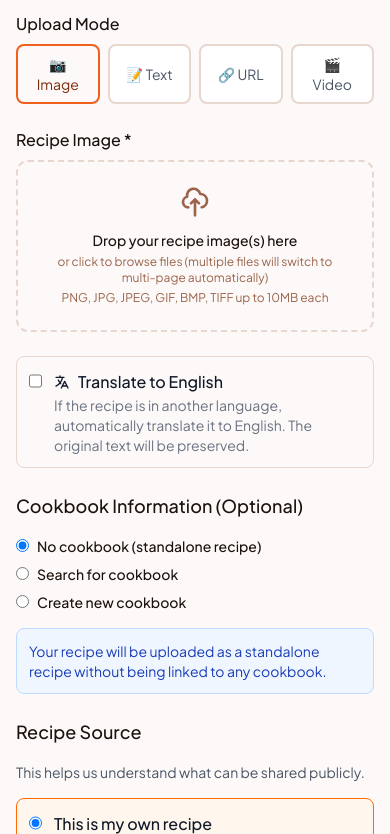
Test: UploadForm › Mode Selection › switches to video mode when video button clicked
Click the button "🎬 Video".
click(332, 74)  # box [290,44,374,104]
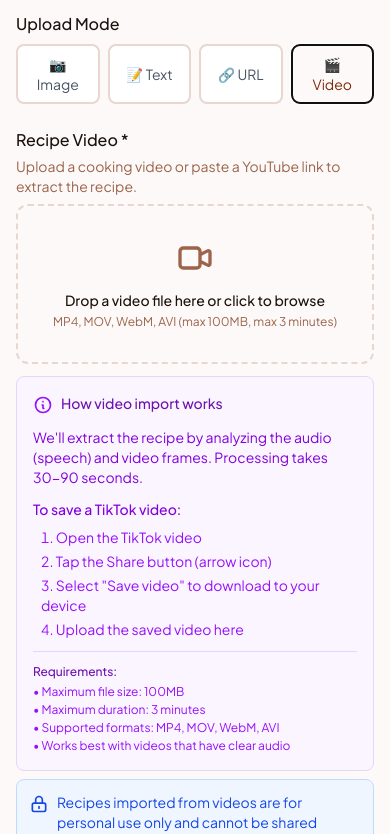
Expected: the text "Recipe Video *" is shown, [16,129,129,150]
